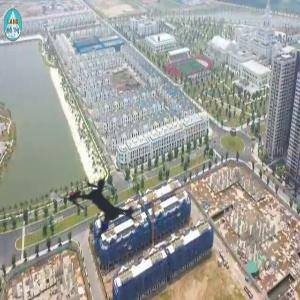drone: (29, 137, 171, 279)
